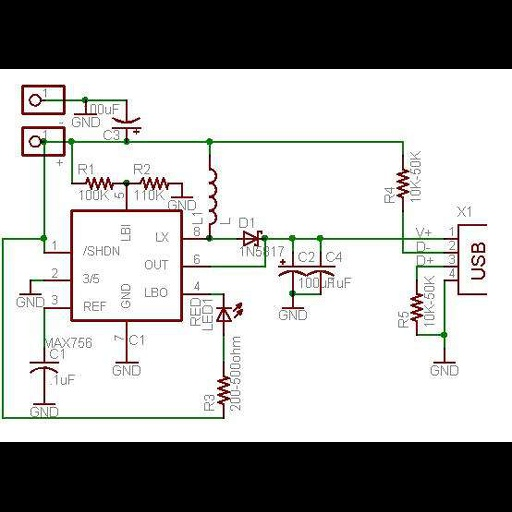firstpolarcapacitor: (112, 114, 144, 137), (275, 258, 307, 281)
inductor: (205, 164, 220, 230)
secondled: (215, 301, 249, 325)
secondresistance: (215, 372, 231, 411), (135, 174, 172, 190), (82, 174, 116, 191), (395, 164, 409, 204), (408, 290, 423, 326)
